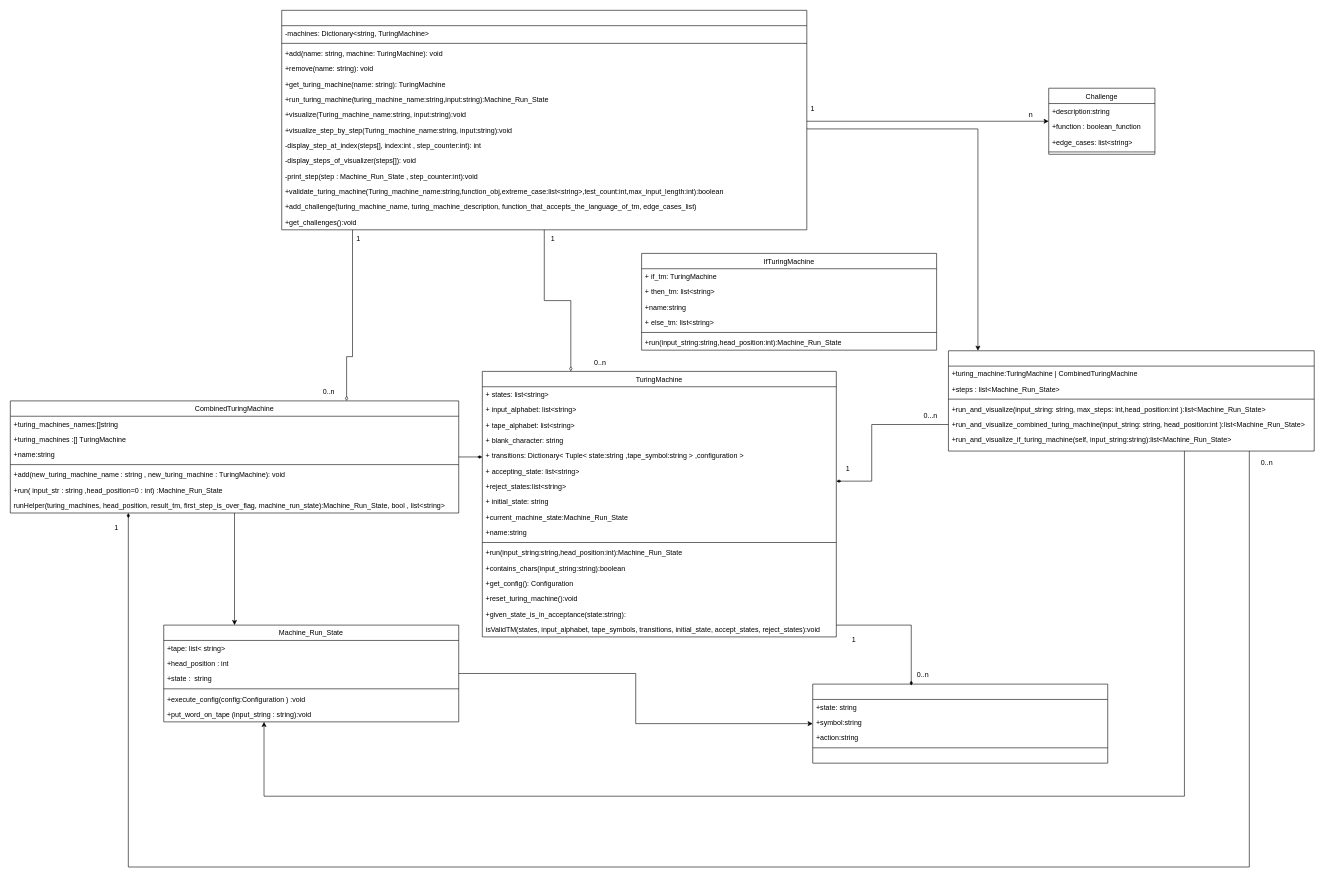
The diagram is 1325 pixels wide and 882 high, and some of its shapes have lost their labels. The shapes that lost their labels are listed below. From the top down, each one's box as (x1, y1, x2, y2) in pixels, then its label:
(281, 10, 807, 230): TuringMachineController
(948, 350, 1314, 451): TuringMachineVisualizer
(812, 684, 1108, 763): Configuration
